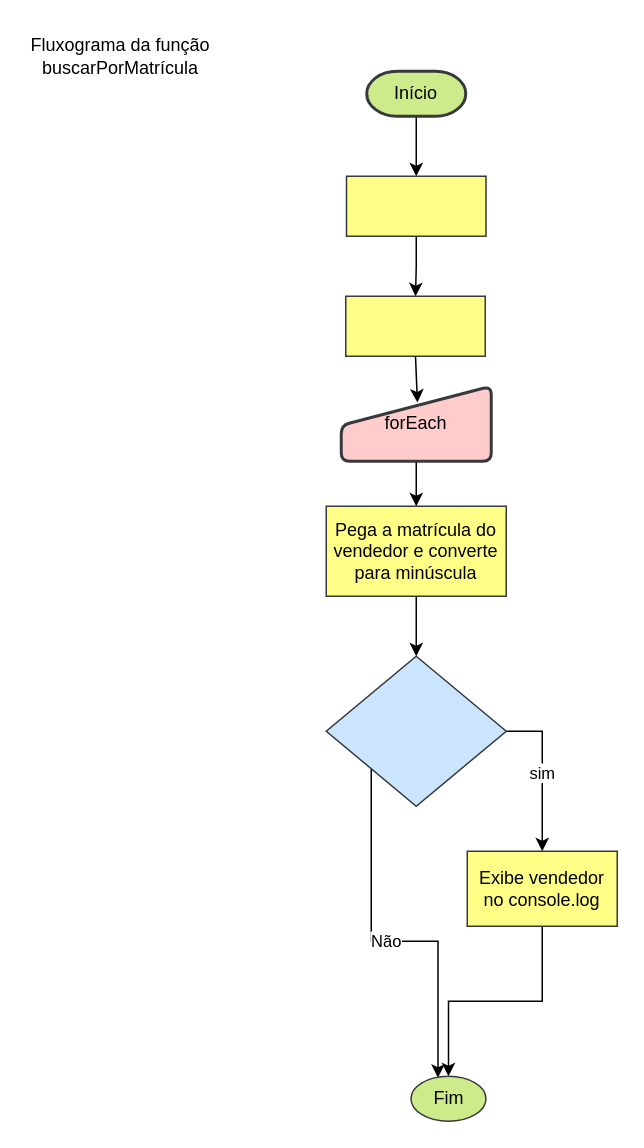
The diagram is 644 pixels wide and 1148 high, and some of its shapes have lost their labels. Here are the shapes that lost their labels. From the top down, the centre of each, then its label:
point (415, 205): Recebe a matrícula
point (414, 325): Percorre a lista
point (415, 730): Matrícula do vendedor é igual a busca?
